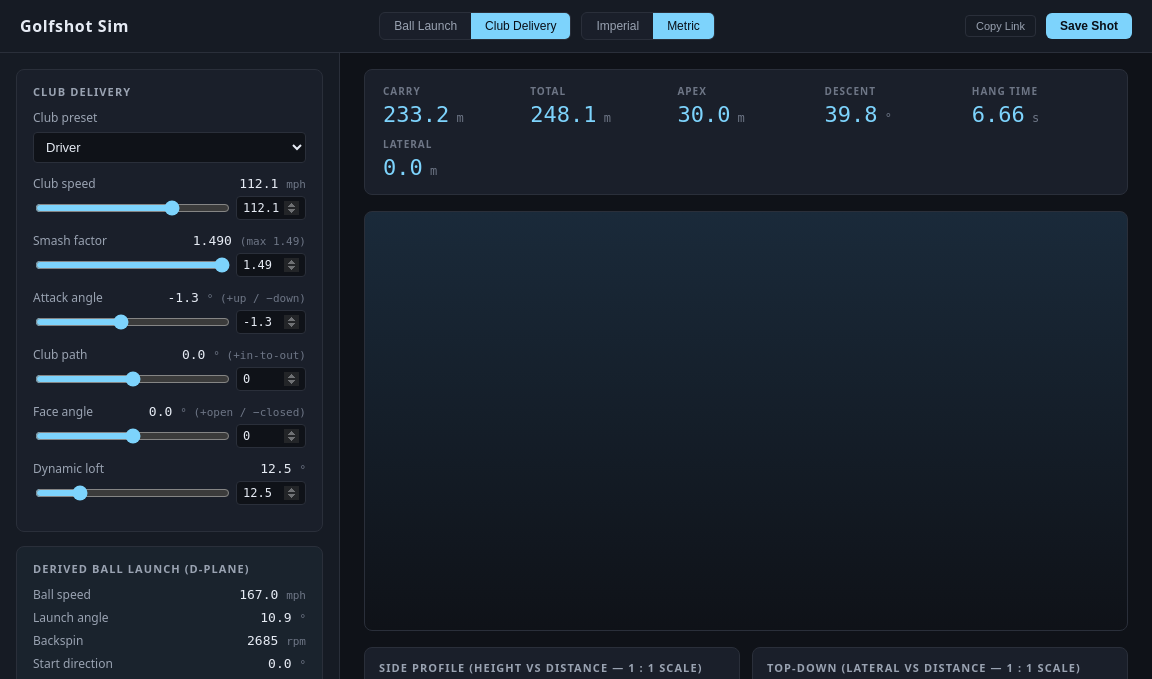
it: App smoke › Save Shot adds a chip with label and total; Clear all empties history
The image size is (1152, 679).
Expected: the text "Saved shots" is not shown
Click the button "Save Shot" at [1089, 26], box [1046,13,1132,39]
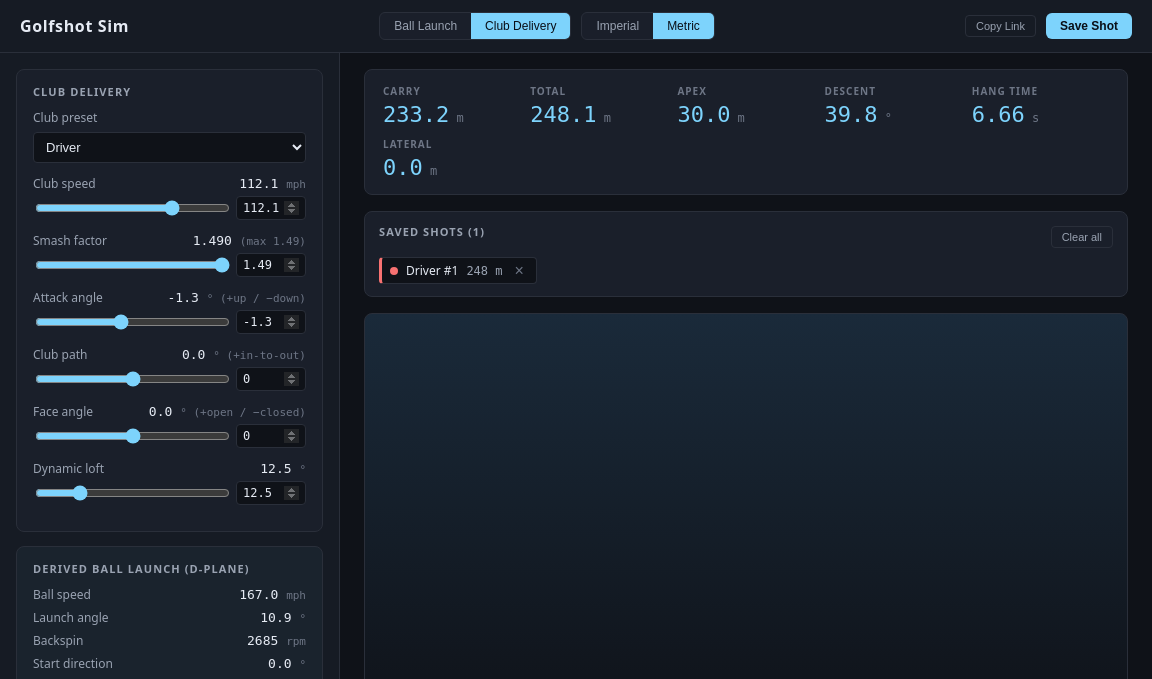
Now the text "Saved shots (1)" is shown, box [379,224,485,239]
Now the text "Driver #1" is shown, box [406,262,458,279]
Click the button "Save Shot" at [1089, 26], box [1046,13,1132,39]
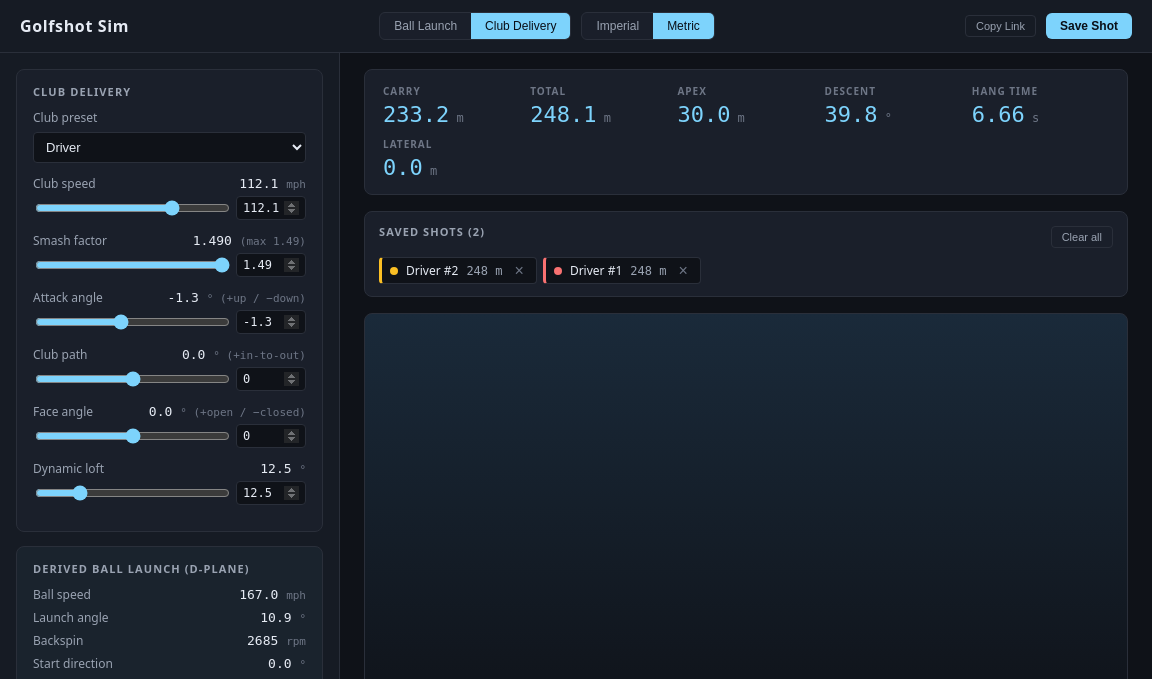
Now the text "Saved shots (2)" is shown, box [379,224,485,239]
Now the text "Driver #2" is shown, box [406,262,458,279]
Click the button "Clear all" at [1082, 236], box [1051,226,1113,248]
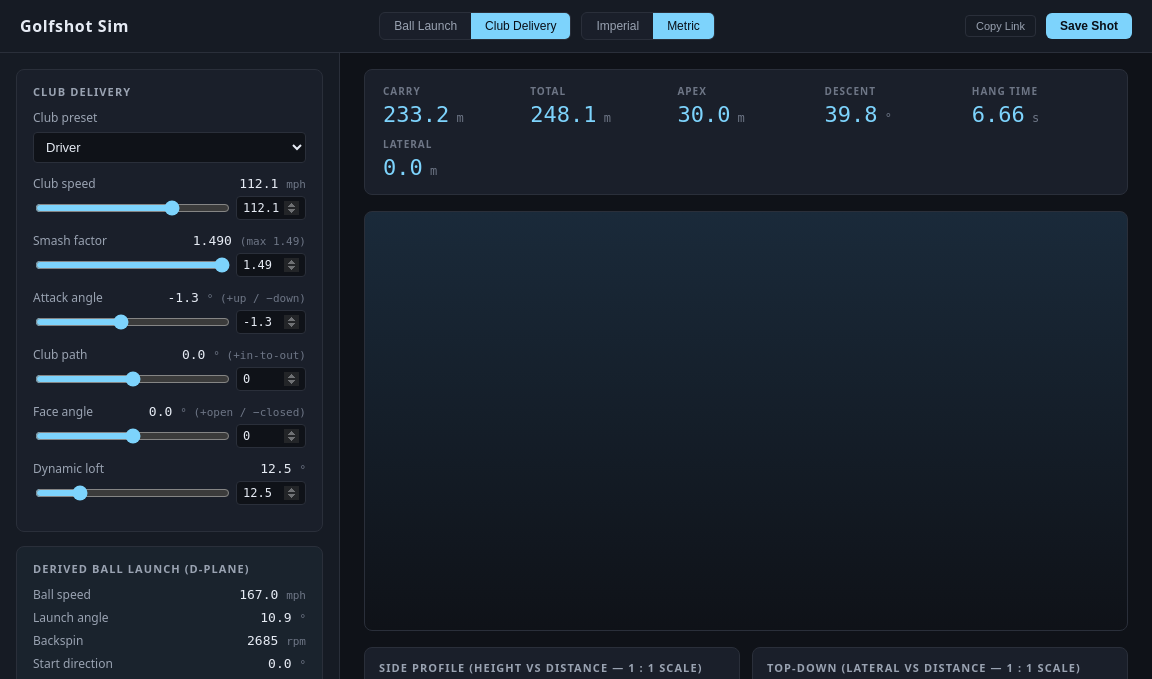
Now the text "Saved shots" is gone
